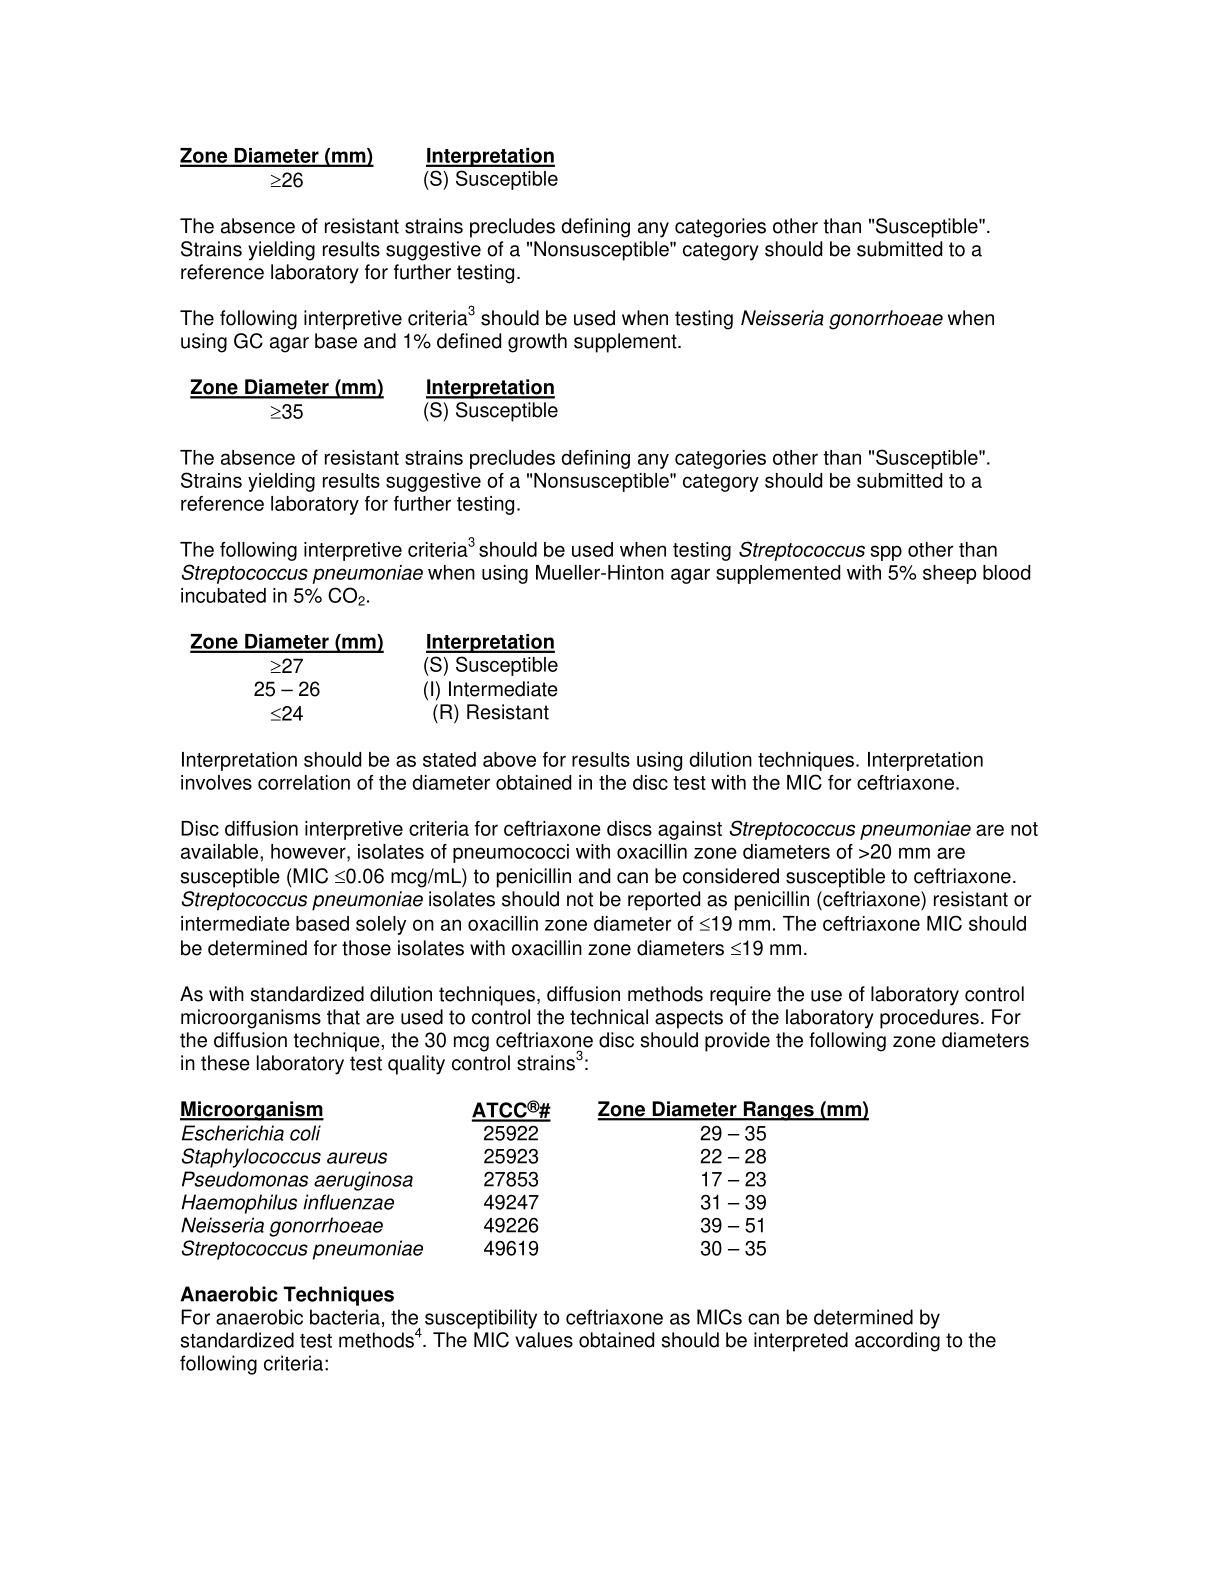nolines: (177, 1098, 869, 1257), (188, 633, 562, 724), (179, 141, 561, 193), (186, 377, 561, 420)
